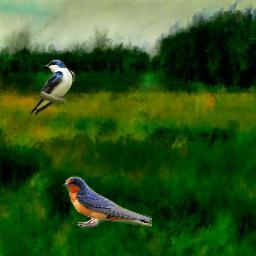Swallow: (62, 175, 152, 229), (29, 59, 75, 116)
